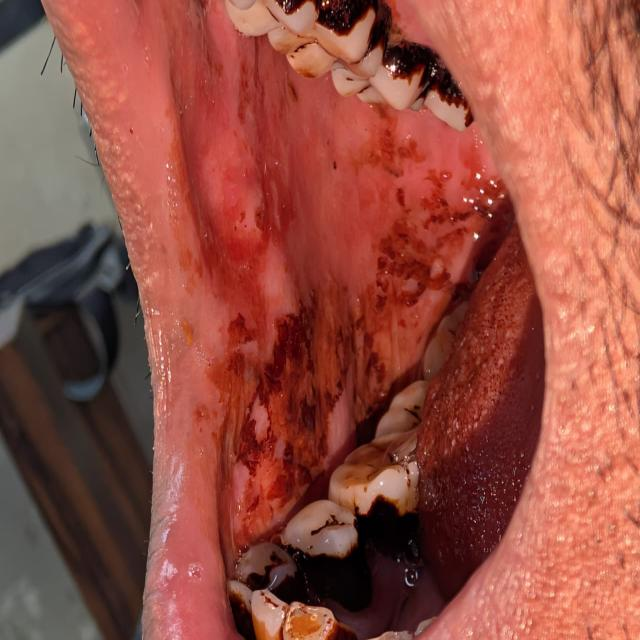leukoplakia-like-detection: (186, 6, 503, 533)
processing_area: (164, 0, 503, 588)
